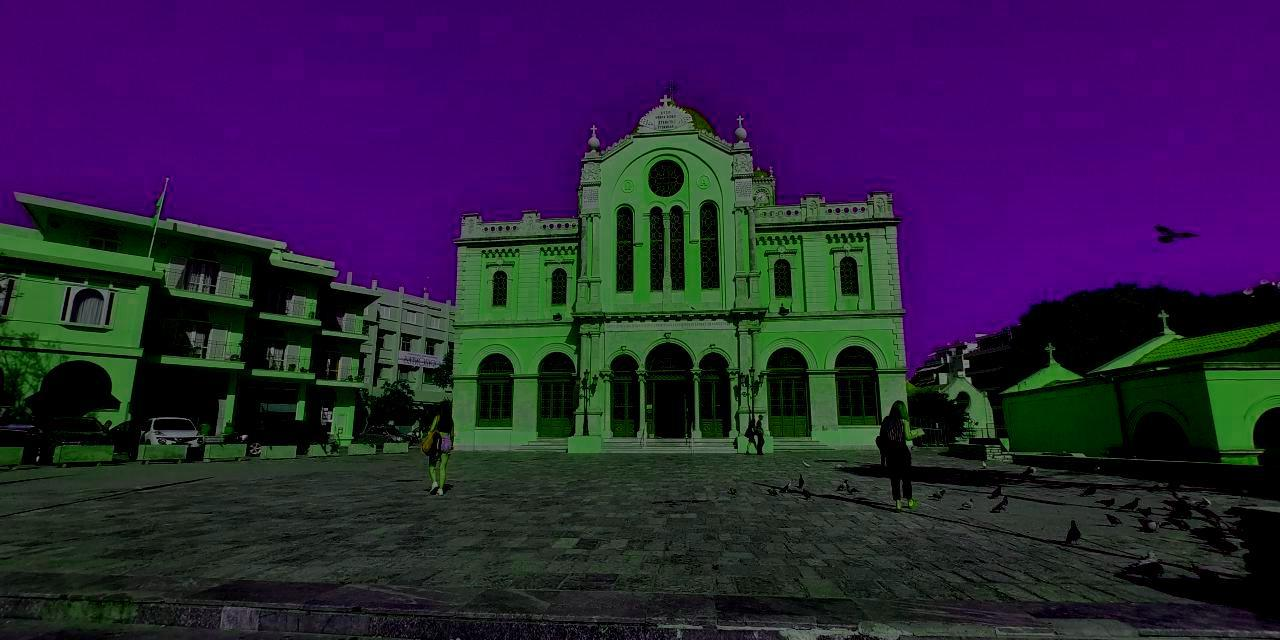Agios Minas: (451, 73, 913, 456)
